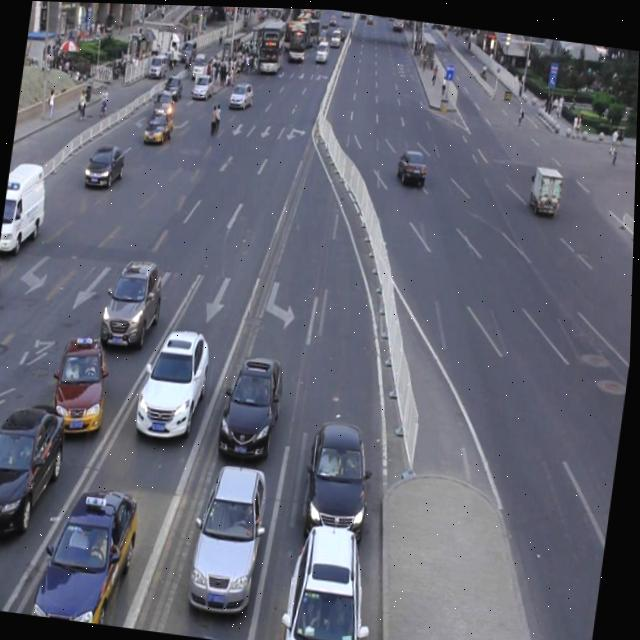bus: (527, 160, 563, 212)
car: (29, 474, 146, 627), (187, 454, 273, 616), (283, 513, 382, 640), (0, 392, 71, 544), (301, 411, 379, 541), (134, 319, 216, 441), (217, 347, 289, 460), (51, 329, 116, 438), (99, 249, 168, 350), (84, 139, 128, 190), (394, 143, 428, 185), (142, 108, 176, 145), (0, 523, 5, 609)
truck: (0, 158, 52, 257)
